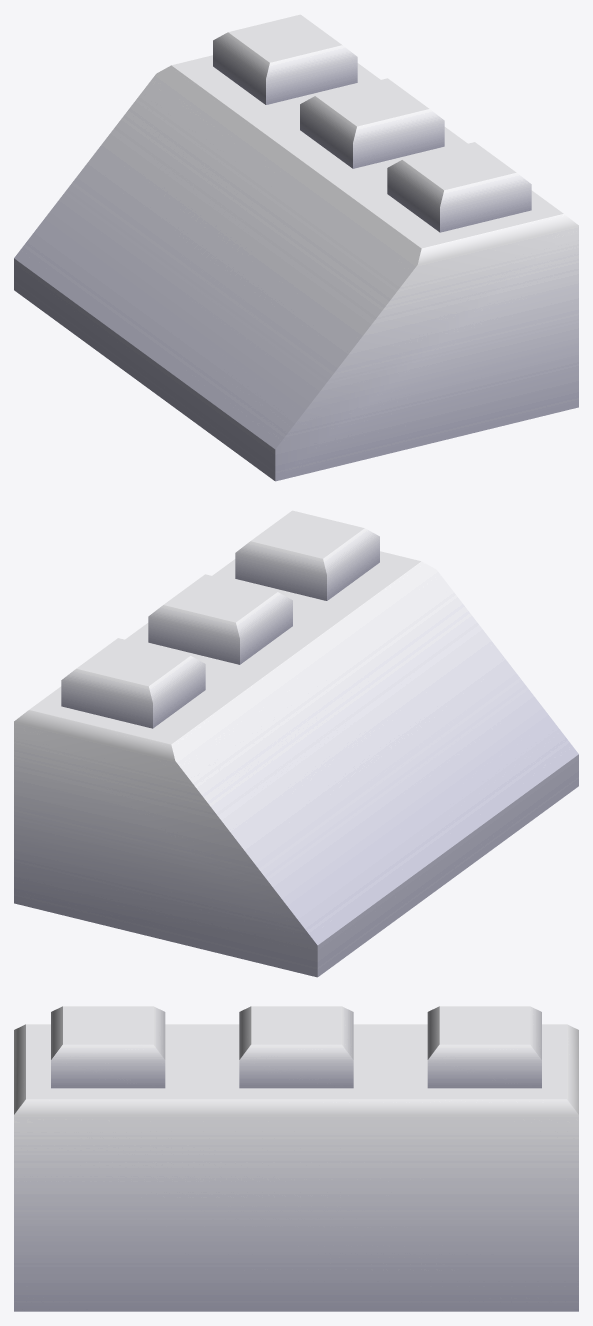
The model's file is brick-kit--square-hq-brick-slope-2x3.glb.
The picture shows the model from 3 angles, top to bottom: view 1: azimuth 30°, elevation 25°; view 2: azimuth 150°, elevation 25°; view 3: azimuth 270°, elevation 25°; orthographic projection. The views are drawn at different scales.
Parts seen in each view (by area): view 1: square-hq-brick-slope-2x3; view 2: square-hq-brick-slope-2x3; view 3: square-hq-brick-slope-2x3.
Boxes of the visible parts, x1,y1,x2,y2 form: square-hq-brick-slope-2x3: (14,14,578,481); square-hq-brick-slope-2x3: (14,510,578,977); square-hq-brick-slope-2x3: (14,1006,578,1311).
Bounding box in the file's own units: 0.159 × 0.114 × 0.237.
Materials: 1 (1 with a texture image).
